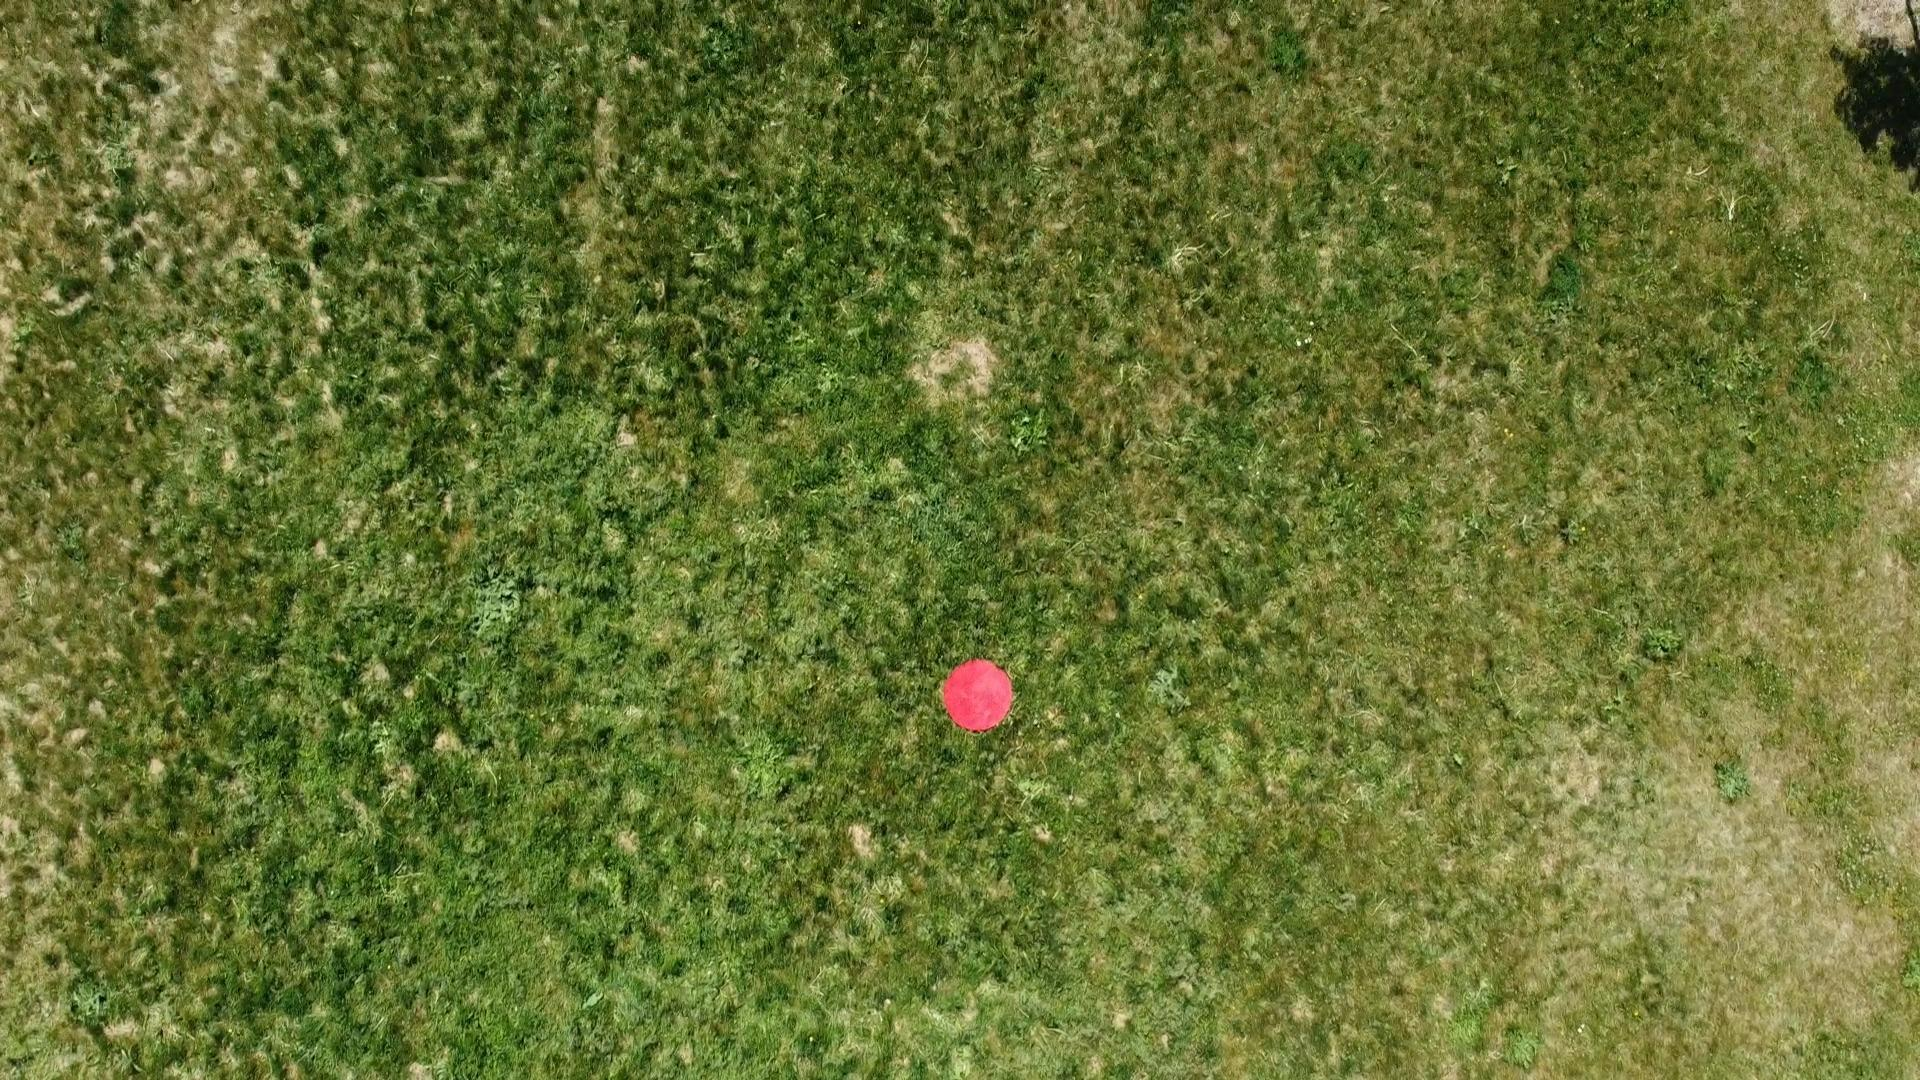Red: (943, 657, 1015, 733)
